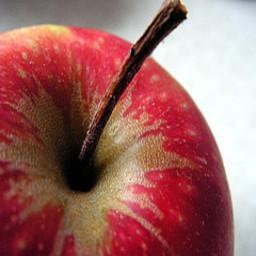apple: (1, 7, 234, 253)
